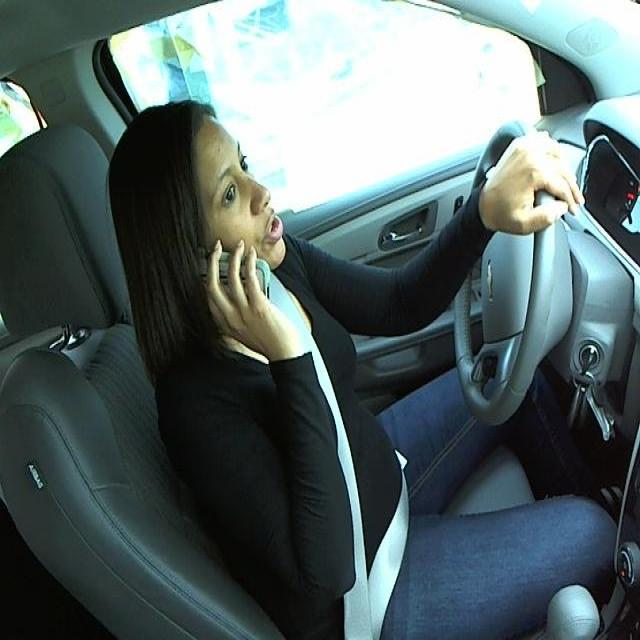using_phone: (93, 72, 315, 339)
